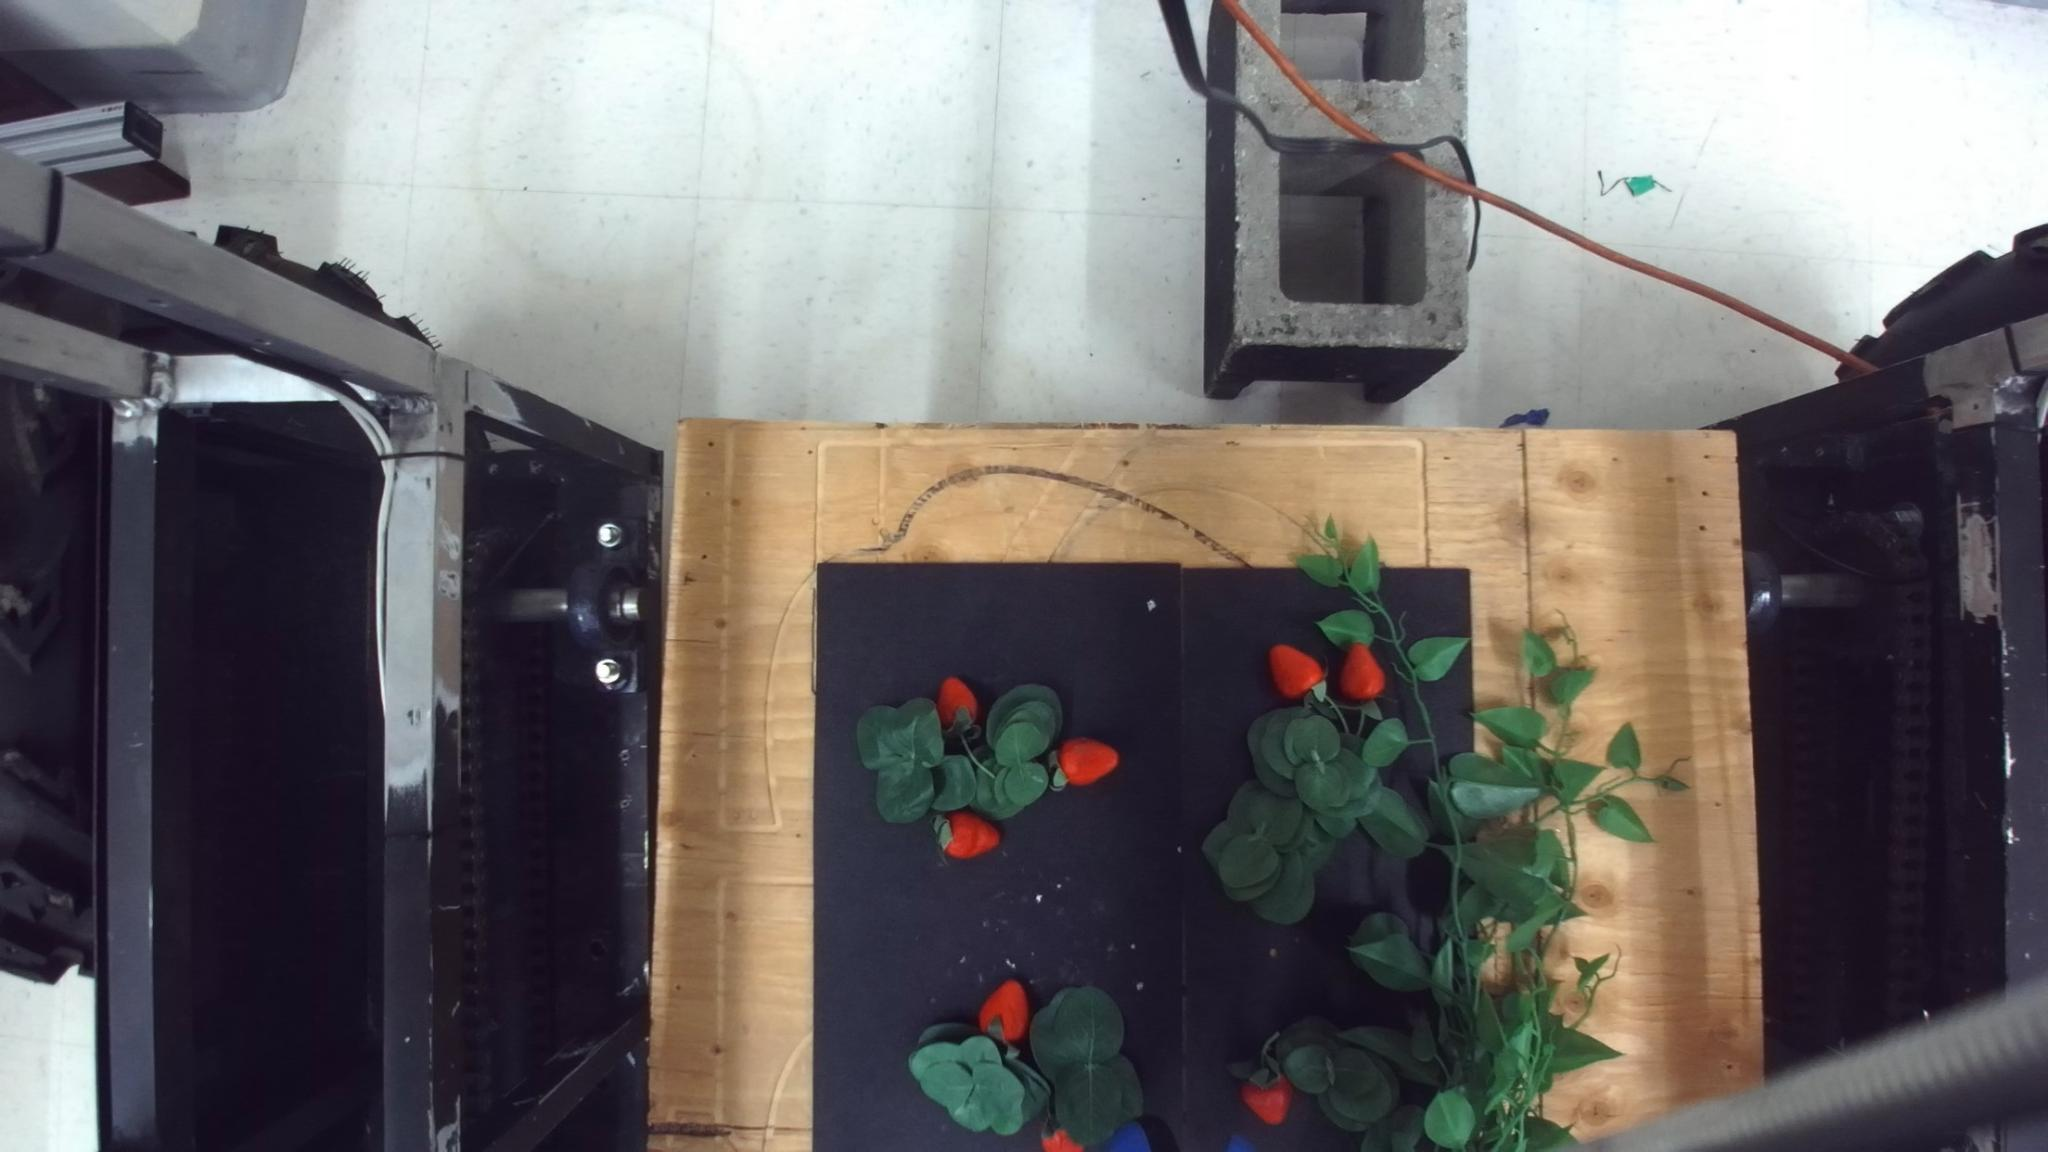strawberry: (978, 978, 1030, 1044), (934, 809, 1000, 859), (1267, 643, 1325, 700), (1055, 737, 1118, 788), (1239, 1070, 1293, 1127), (1336, 641, 1385, 702), (935, 675, 978, 731), (1039, 1124, 1084, 1151)
